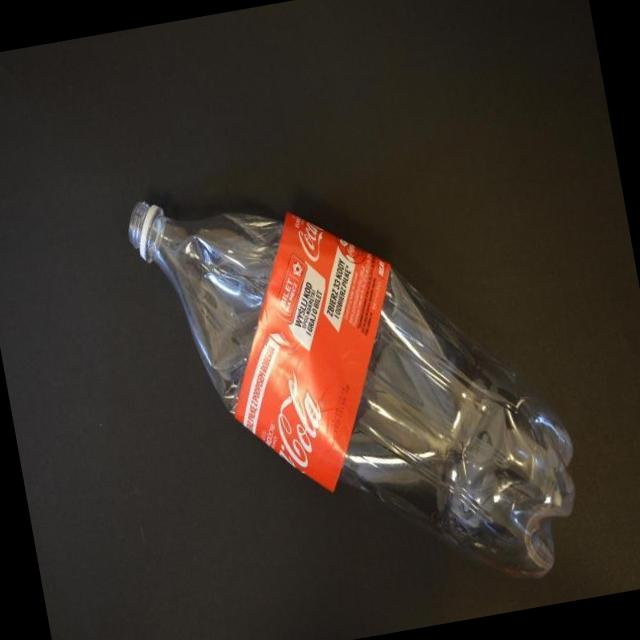plastic_bottle: (121, 133, 594, 639)
